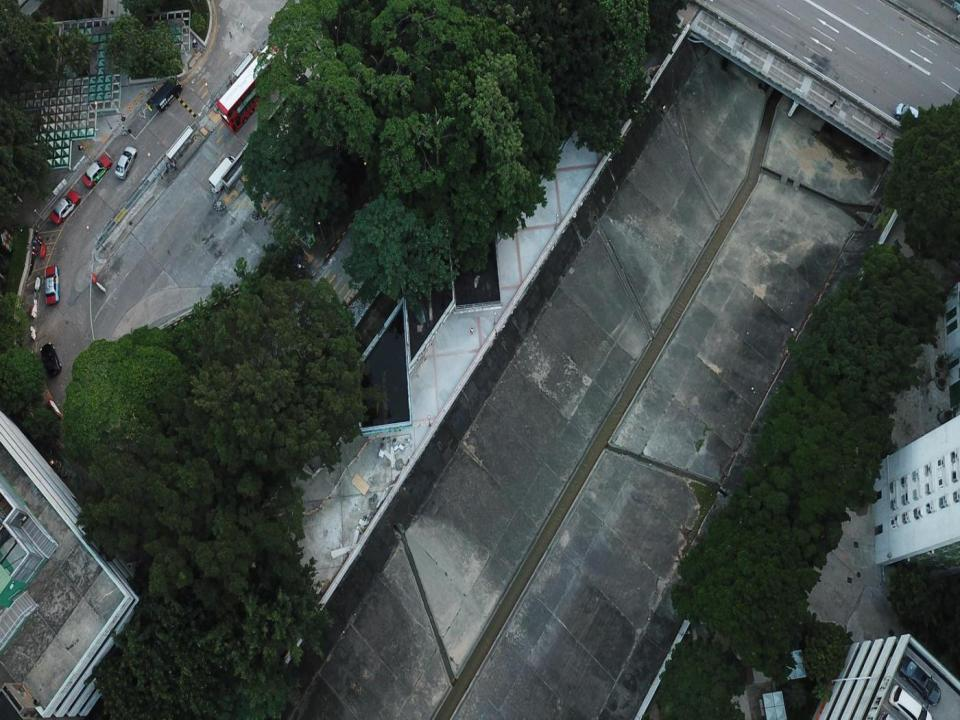bus: (216, 42, 284, 133)
car: (898, 654, 940, 706), (888, 684, 933, 719), (50, 190, 81, 225), (81, 155, 112, 189), (114, 146, 136, 180), (40, 342, 61, 377), (894, 102, 922, 126), (44, 266, 60, 306)
van: (146, 77, 183, 113), (208, 155, 235, 195)
